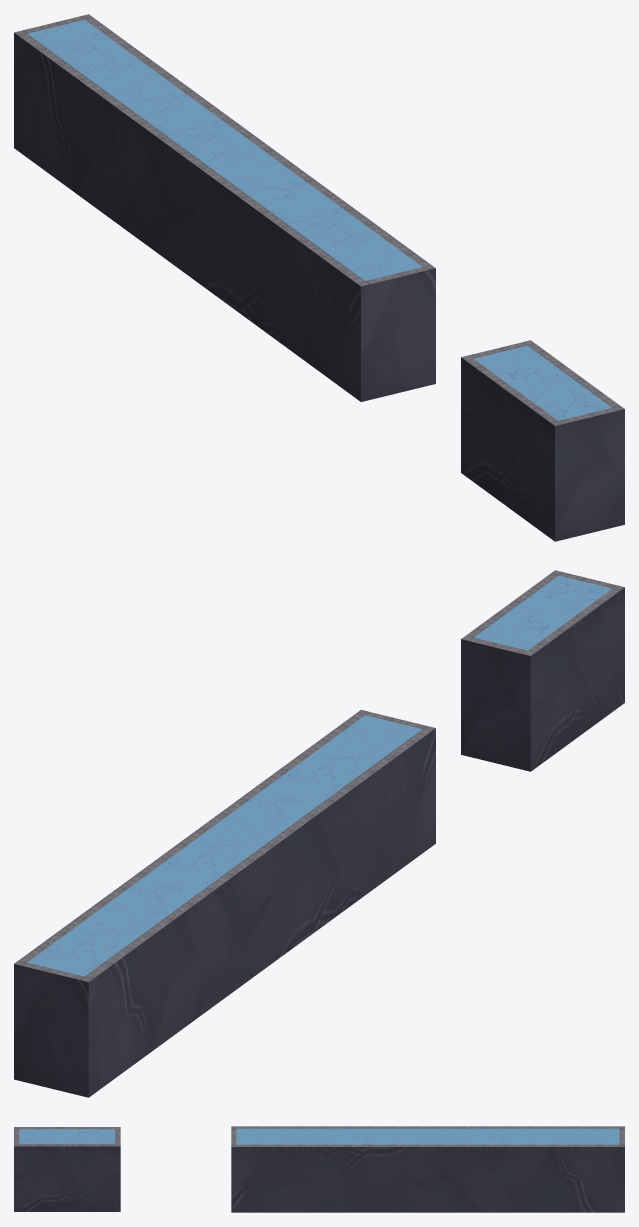
Rendered from Gemini_Floor.fbx.
3 renders of one model, top to bottom at view 1: azimuth 30°, elevation 25°; view 2: azimuth 150°, elevation 25°; view 3: azimuth 270°, elevation 25°, orthographic. The views are drawn at different scales.
Parts seen in each view (by area): view 1: pCube1, pCube2; view 2: pCube1, pCube2; view 3: pCube1, pCube2.
Boxes of the visible parts, x1,y1,x2,y2 form: pCube1: (14, 14, 435, 401); pCube2: (461, 340, 624, 541); pCube1: (14, 710, 435, 1097); pCube2: (461, 570, 624, 771); pCube1: (231, 1126, 624, 1212); pCube2: (14, 1127, 120, 1211).
Size of the model in its own units: 2122 by 3135 by 26470.
